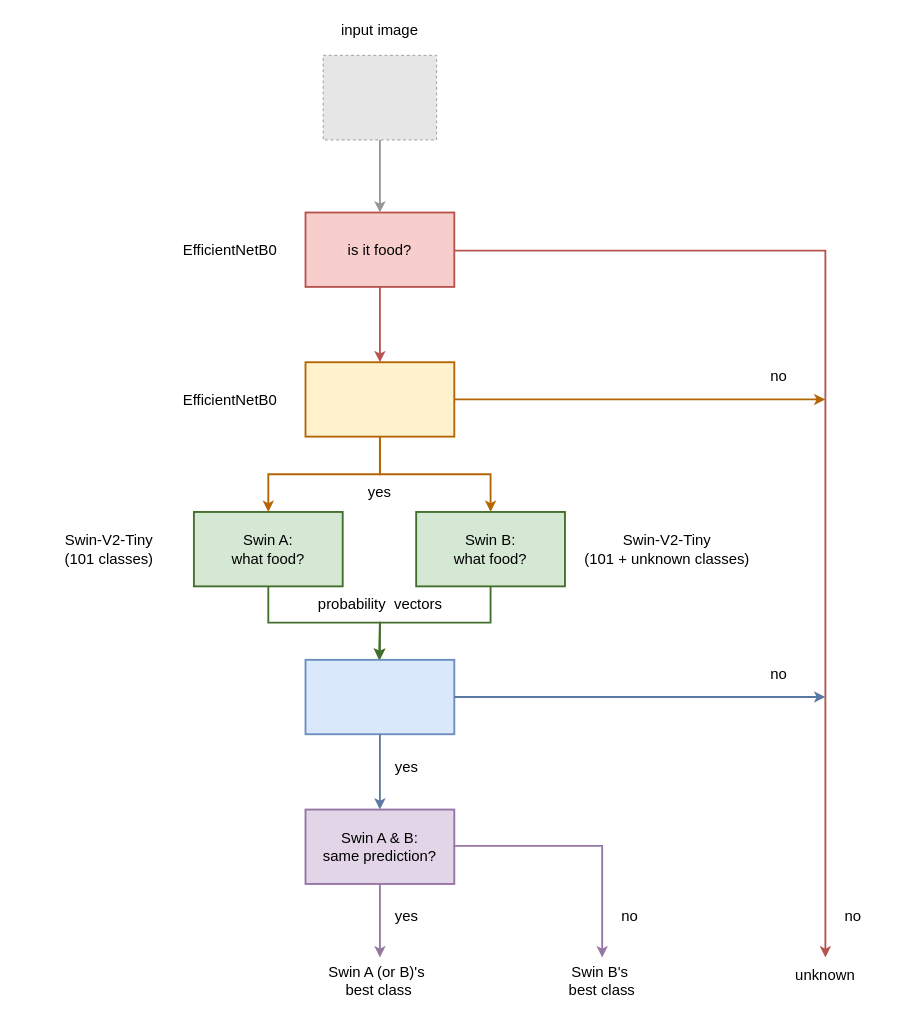
Image size: 924x1014. Some labels were removed from this diagram. Grey dashed boxes stand in for pictures. Here are the shapes that lost their labels. From the top down, the centre of each, then its label:
At (x=379, y=399): "is it known?".
At (x=379, y=696): "Swin A: entropy < threshold?".
